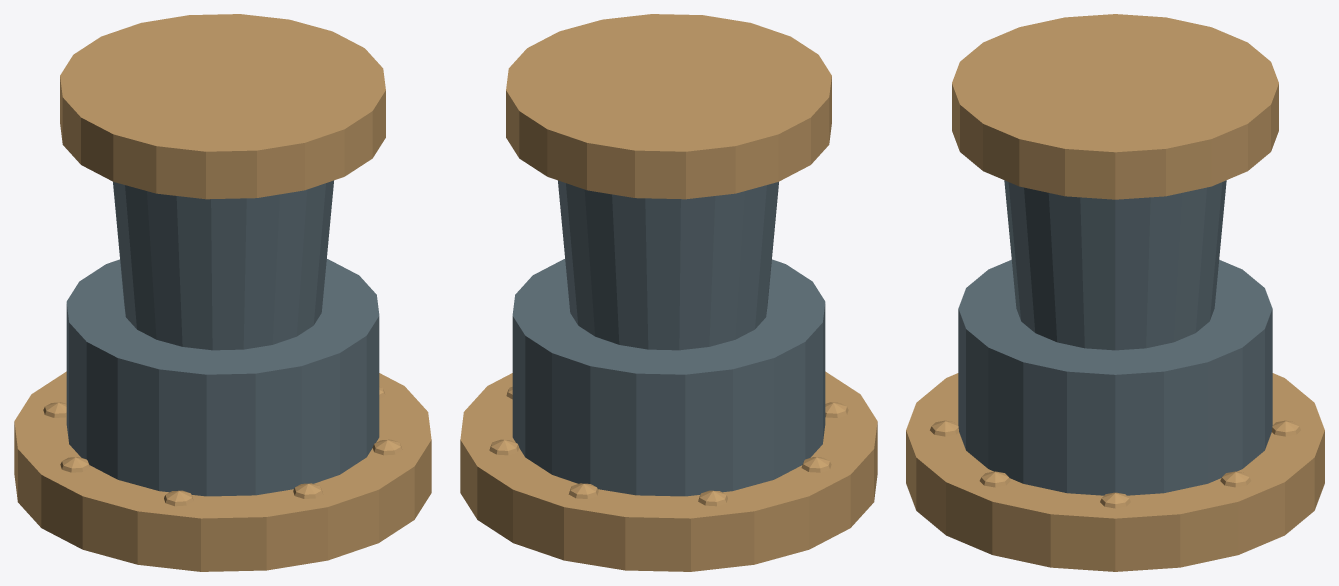
File: MooringBollard.glb
The picture shows the model from 3 angles, left to right: view 1: azimuth 30°, elevation 25°; view 2: azimuth 150°, elevation 25°; view 3: azimuth 270°, elevation 25°; orthographic projection.
Parts seen in each view (by area): view 1: MooringBollard; view 2: MooringBollard; view 3: MooringBollard.
Boxes of the visible parts, x1,y1,x2,y2 form: MooringBollard: (14, 14, 431, 571); MooringBollard: (460, 14, 877, 571); MooringBollard: (906, 14, 1324, 571).
Size of the model in its own units: 0.64 by 0.68 by 0.64.
